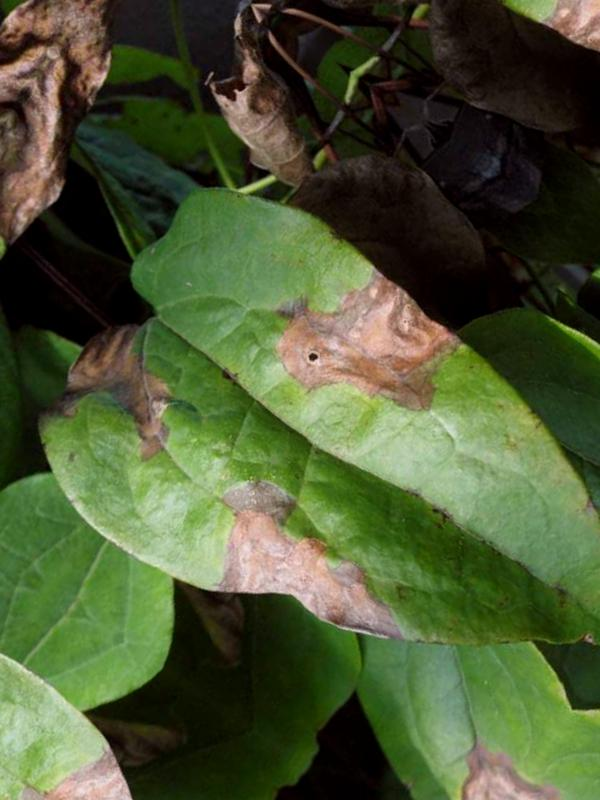Tomato leaf bacterial spot: (0, 145, 600, 800)
